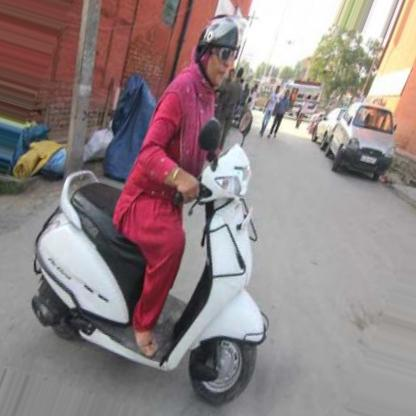with helmet: (195, 13, 242, 88)
